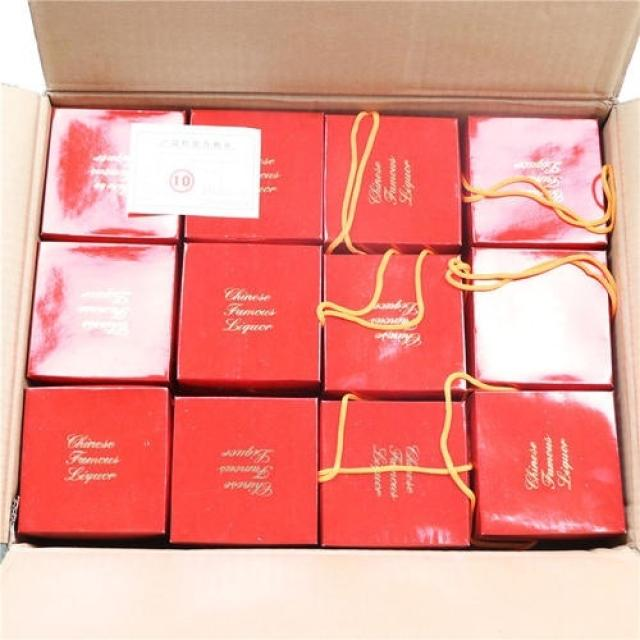box: (463, 387, 627, 538), (169, 241, 324, 400), (18, 379, 170, 534), (318, 398, 472, 548), (26, 233, 180, 382), (166, 399, 319, 546), (462, 245, 617, 389), (318, 252, 463, 399), (457, 113, 606, 248), (180, 109, 326, 244), (324, 111, 462, 253), (40, 108, 186, 242)
